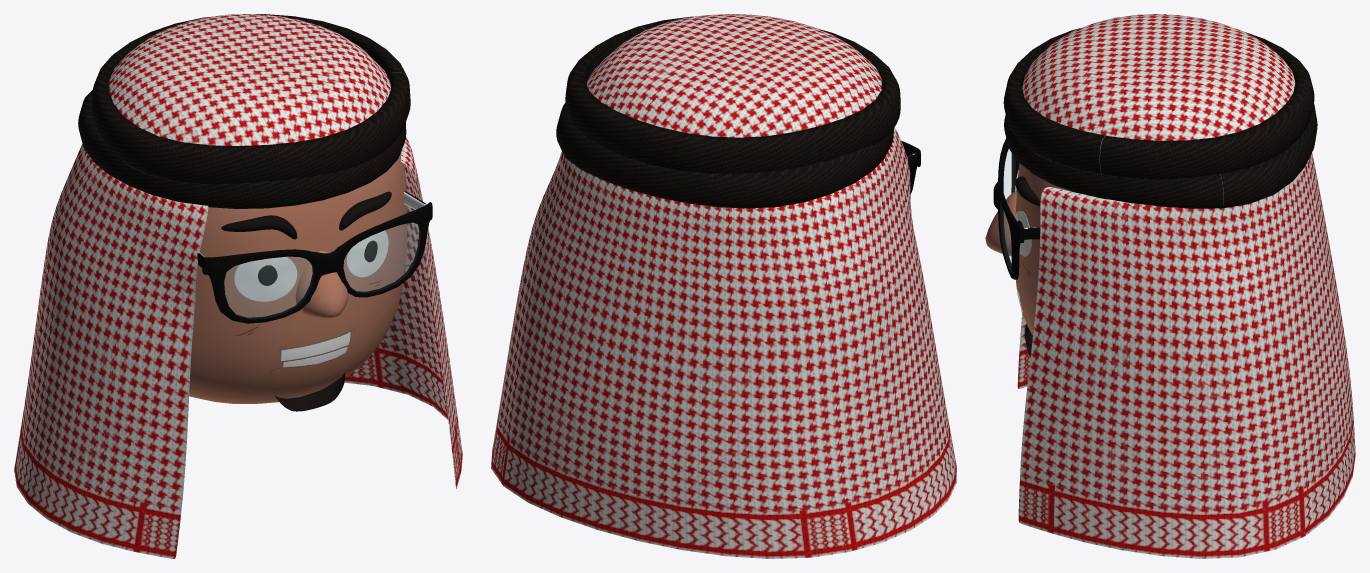
File: Vineeth.fbx
The picture shows the model from 3 angles, left to right: view 1: azimuth 30°, elevation 25°; view 2: azimuth 150°, elevation 25°; view 3: azimuth 270°, elevation 25°; orthographic projection. The views are drawn at different scales.
Visible parts, largest first — view 1: ActualShoes_Cube.004; view 2: ActualShoes_Cube.004; view 3: ActualShoes_Cube.004.
Boxes of the visible parts, bbox=[...] form: ActualShoes_Cube.004: bbox=[14, 14, 462, 558]; ActualShoes_Cube.004: bbox=[491, 14, 956, 558]; ActualShoes_Cube.004: bbox=[985, 14, 1355, 558].
Size of the model in its own units: 160 by 160 by 130.
6 materials, 2 textured.
